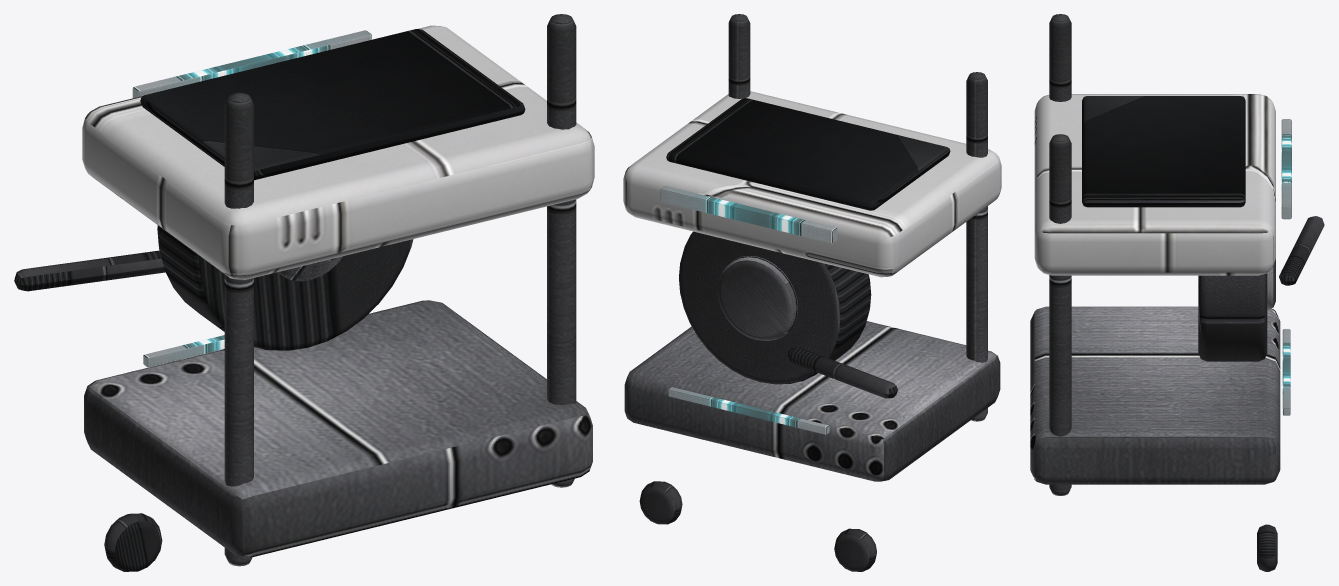
The model's file is hp_l4_cineclinic_cable_trolley.glb.
3 views of the same model, side by side, from view 1: azimuth 30°, elevation 25°; view 2: azimuth 150°, elevation 25°; view 3: azimuth 270°, elevation 25° (orthographic). The views are drawn at different scales.
Parts seen in each view (by area): view 1: lower_cart_tray, upper_cart_tray, upper_tray_black_inset, cable_spool, left_post, right_post, loose_cable_tail, cyan_connector_row, front_wheel_l, lower_shelf_cyan_edge, spool_inner_hub; view 2: lower_cart_tray, upper_cart_tray, upper_tray_black_inset, cable_spool, spool_inner_hub, left_post, cyan_connector_row, loose_cable_tail, right_post, lower_shelf_cyan_edge, front_wheel_r, front_wheel_l; view 3: lower_cart_tray, upper_cart_tray, upper_tray_black_inset, cable_spool, right_post, left_post, loose_cable_tail, cyan_connector_row, front_wheel_r, lower_shelf_cyan_edge.
Boxes of the visible parts, box(x1,y1,x2,y2) form: lower_cart_tray: box(84, 300, 592, 556); upper_cart_tray: box(82, 25, 594, 279); upper_tray_black_inset: box(140, 29, 525, 180); cable_spool: box(157, 225, 413, 350); left_post: box(224, 92, 253, 566); right_post: box(547, 14, 576, 487); loose_cable_tail: box(14, 250, 165, 291); cyan_connector_row: box(132, 30, 371, 98); front_wheel_l: box(104, 513, 162, 571); lower_shelf_cyan_edge: box(143, 335, 224, 367); spool_inner_hub: box(278, 256, 342, 281); lower_cart_tray: box(624, 321, 1000, 481); upper_cart_tray: box(623, 91, 1001, 277); upper_tray_black_inset: box(666, 98, 950, 210); cable_spool: box(679, 231, 871, 384); spool_inner_hub: box(718, 256, 797, 340); left_post: box(966, 72, 987, 421); cyan_connector_row: box(660, 186, 837, 243); loose_cable_tail: box(787, 347, 897, 398); right_post: box(728, 14, 750, 98); lower_shelf_cyan_edge: box(668, 387, 829, 434); front_wheel_r: box(639, 481, 682, 524); front_wheel_l: box(834, 528, 876, 571); lower_cart_tray: box(1030, 306, 1280, 484); upper_cart_tray: box(1034, 94, 1275, 275); upper_tray_black_inset: box(1082, 96, 1245, 207); cable_spool: box(1198, 273, 1267, 361); right_post: box(1049, 134, 1071, 495); left_post: box(1049, 14, 1071, 101); loose_cable_tail: box(1279, 216, 1324, 285); cyan_connector_row: box(1281, 119, 1291, 219); front_wheel_r: box(1257, 524, 1277, 571); lower_shelf_cyan_edge: box(1282, 328, 1290, 415).
Bounding box in the file's own units: 0.8268 × 1.14 × 0.6832.
Materials: 5 (5 with a texture image).
